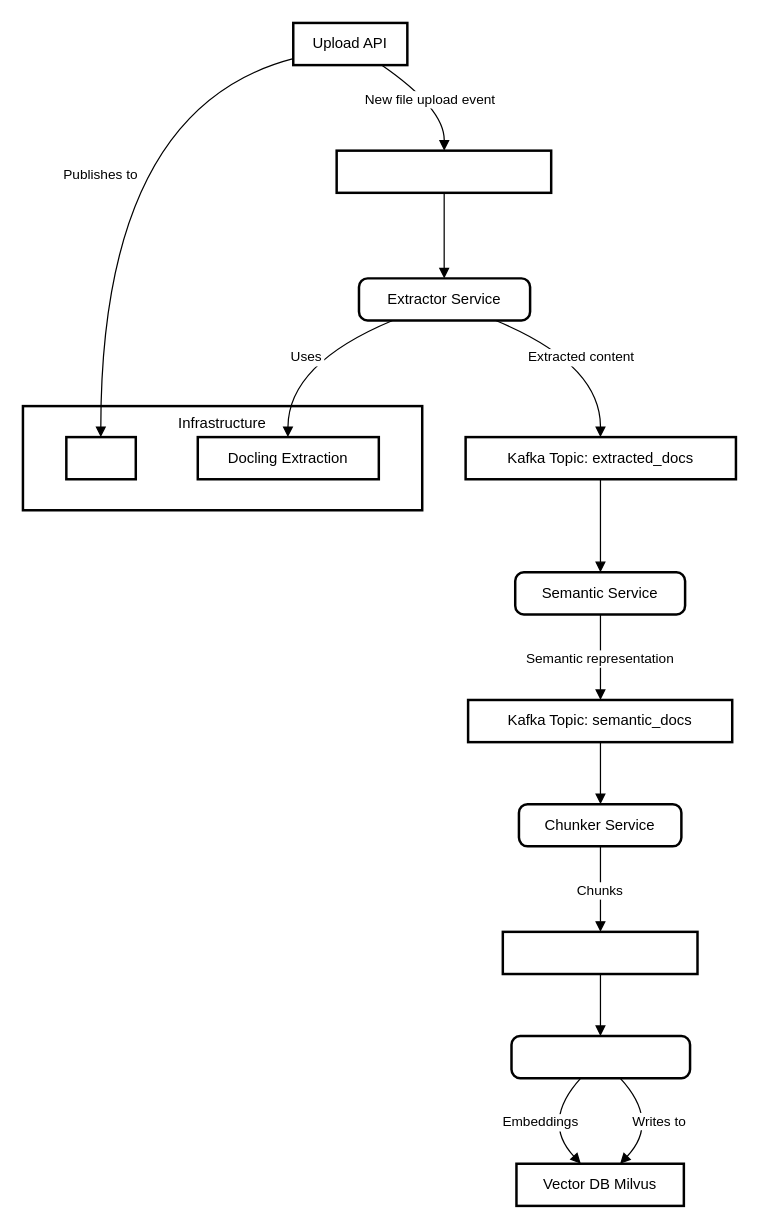
Some shapes in this 758 by 1228 pixel diagram are drawn without their labels. The shapes that lost their labels are listed below. From the top down, each one's centre as x and y in pixels, then its label:
At point (443, 171): "Kafka Topic: raw_files".
At point (100, 457): "Kafka".
At point (599, 952): "Kafka Topic: chunks".
At point (600, 1056): "Embedder Service".
